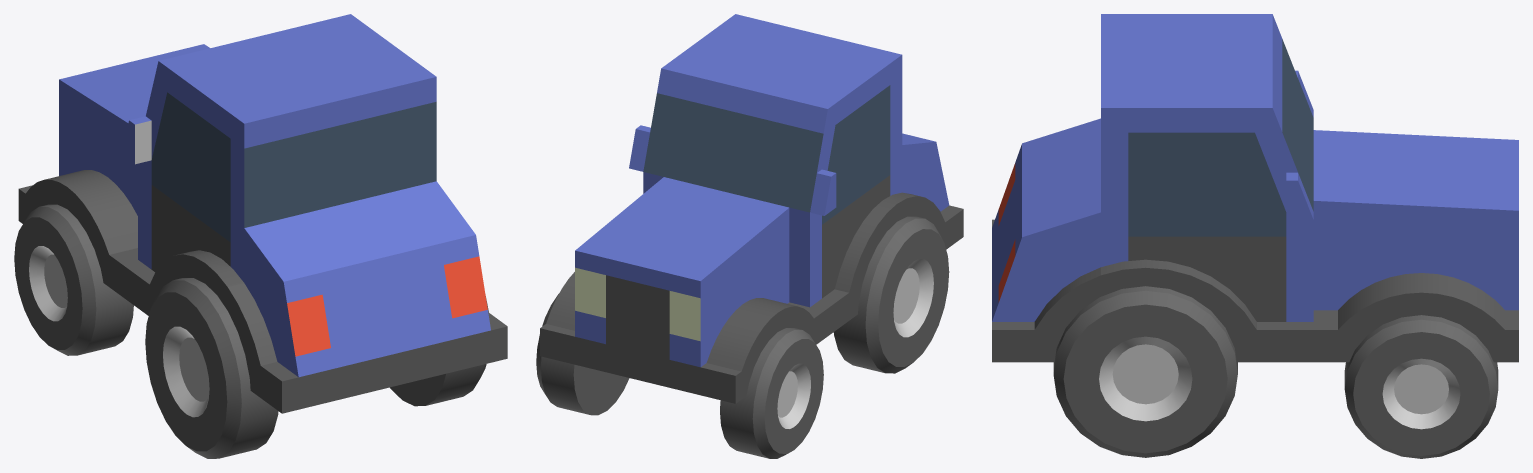
Rendered from carTractor.fbx.
The picture shows the model from 3 angles, left to right: view 1: azimuth 30°, elevation 25°; view 2: azimuth 150°, elevation 25°; view 3: azimuth 270°, elevation 25°; orthographic projection. The views are drawn at different scales.
Parts seen in each view (by area): view 1: body 12, wheelBackLeft 12, wheelFrontLeft 12, wheelBackRight 12; view 2: body 12, wheelBackLeft 12, wheelFrontLeft 12, wheelFrontRight 12; view 3: body 12, wheelBackRight 12, wheelFrontRight 12.
Part boxes in pixels (<box>): body 12: <box>18,14,507,413</box>; wheelBackLeft 12: <box>145,278,278,458</box>; wheelFrontLeft 12: <box>14,204,133,355</box>; wheelBackRight 12: <box>390,296,488,406</box>; body 12: <box>540,14,963,403</box>; wheelBackLeft 12: <box>833,216,949,373</box>; wheelFrontLeft 12: <box>720,328,823,458</box>; wheelFrontRight 12: <box>536,294,629,415</box>; body 12: <box>992,14,1518,362</box>; wheelBackRight 12: <box>1053,286,1237,457</box>; wheelFrontRight 12: <box>1344,315,1498,458</box>.
Bounding box in the file's own units: 5.55 × 6.83 × 9.6.
